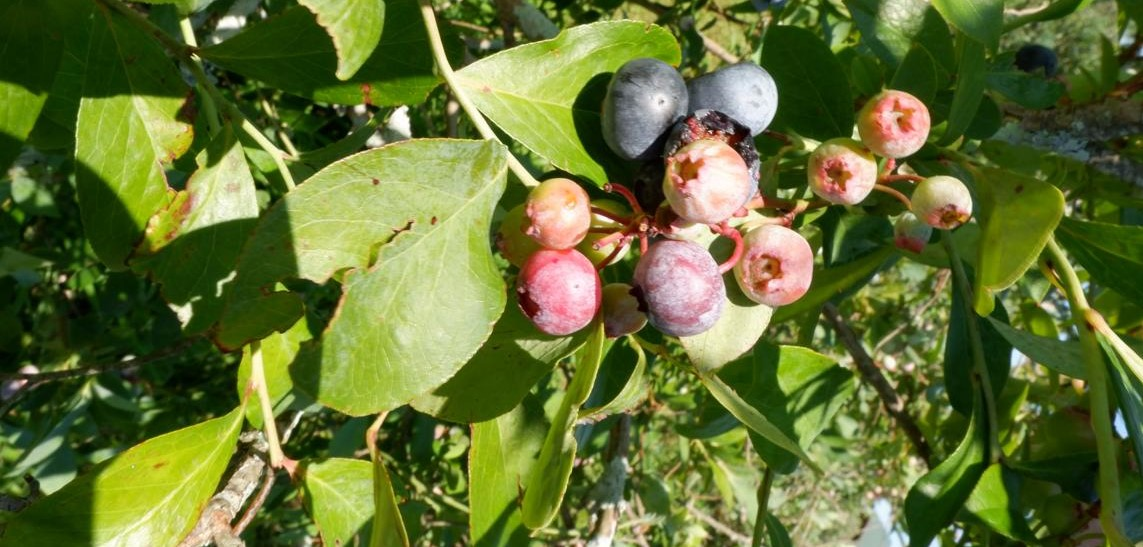Immature: (628, 236, 728, 338), (514, 247, 603, 337), (662, 139, 751, 225), (733, 224, 814, 306), (519, 178, 593, 251), (857, 90, 931, 159), (807, 137, 878, 205), (572, 199, 636, 272), (910, 175, 974, 230), (492, 203, 543, 269), (602, 283, 648, 338), (654, 198, 710, 239), (891, 210, 934, 254)
Mature: (600, 57, 689, 165), (664, 116, 760, 202), (684, 61, 778, 136)
